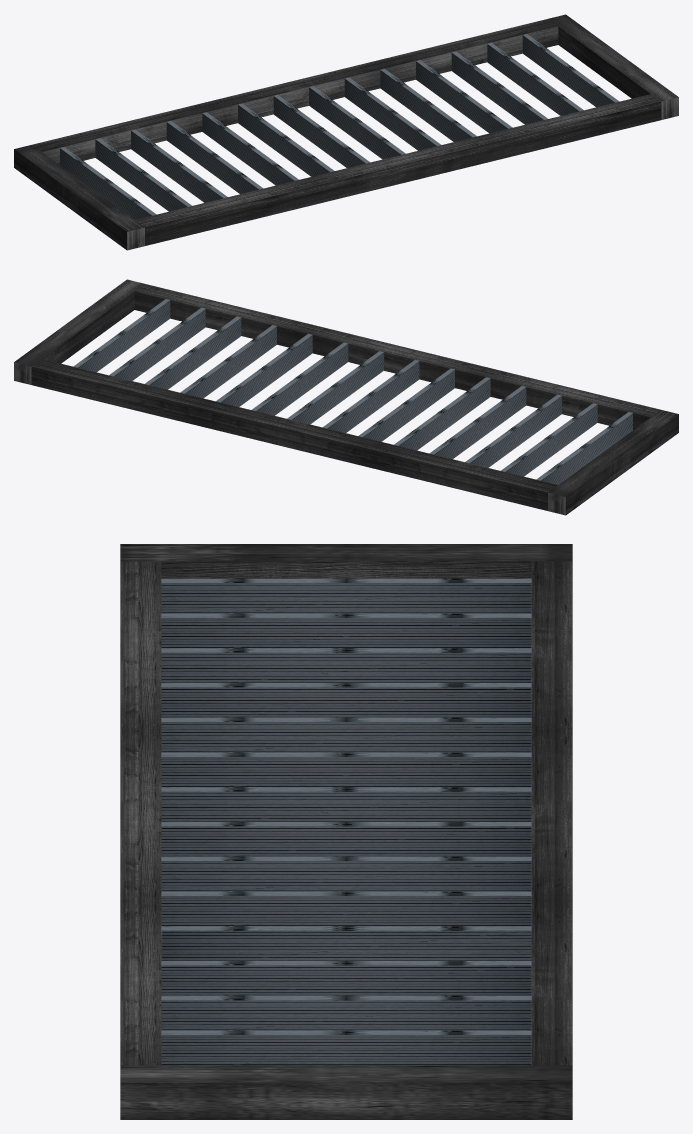
Rendered from Terrace_Roof_H.fbx.
3 views of the same model, one above another, from view 1: azimuth 30°, elevation 25°; view 2: azimuth 150°, elevation 25°; view 3: azimuth 270°, elevation 25° (orthographic). The views are drawn at different scales.
Parts seen in each view (by area): view 1: Terrace_Roof_H; view 2: Terrace_Roof_H; view 3: Terrace_Roof_H.
Part boxes in pixels (x1,y1,x2,y2): Terrace_Roof_H: [14, 14, 678, 250]; Terrace_Roof_H: [14, 279, 678, 515]; Terrace_Roof_H: [120, 544, 572, 1119].
Bounding box in the file's own units: 620 × 20 × 220.
Materials: 3 (3 with a texture image).
